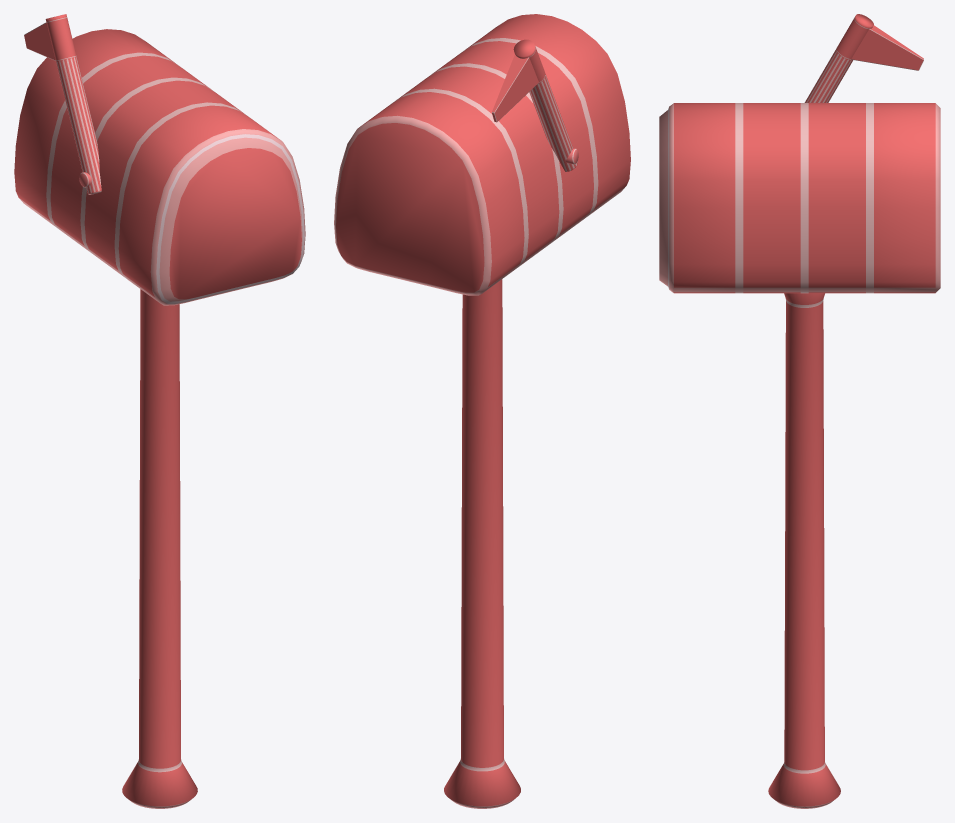
File: Briefkasten.glb
The picture shows the model from 3 angles, left to right: view 1: azimuth 30°, elevation 25°; view 2: azimuth 150°, elevation 25°; view 3: azimuth 270°, elevation 25°; orthographic projection. The views are drawn at different scales.
Visible parts, largest first — view 1: Briefkasten; view 2: Briefkasten; view 3: Briefkasten.
Part boxes in pixels (x1,y1,x2,y2): Briefkasten: (14,14,305,808); Briefkasten: (334,14,630,808); Briefkasten: (659,14,940,808).
Bounding box in the file's own units: 0.1853 × 0.8472 × 0.2894.
Materials: 1 (1 with a texture image).
